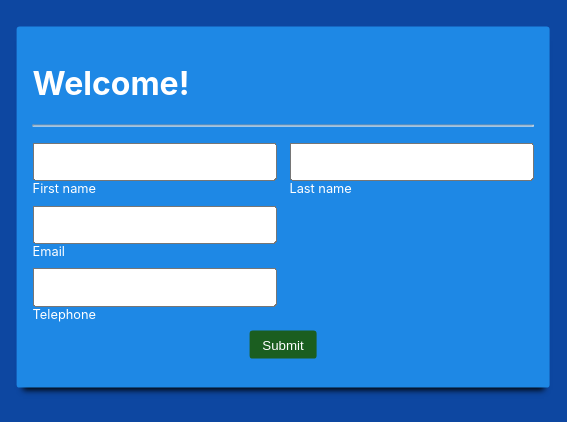
Welcome form › submits the form if all fields are correctly filled
Type "firstname" into the field with test id "welcome-form-first-name" at {"x": 155, "y": 162}, box [33, 142, 277, 181]
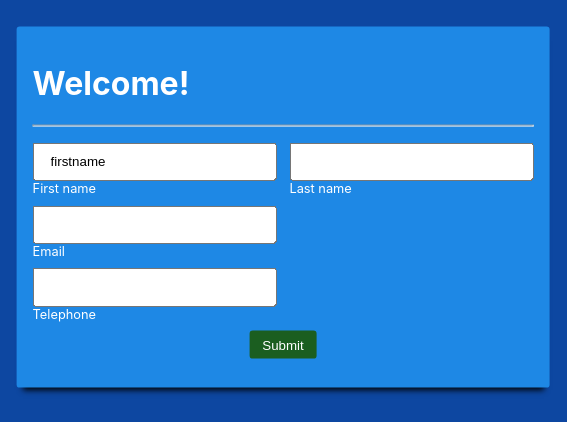
Type "lastname" into the field with test id "welcome-form-last-name" at {"x": 411, "y": 162}, box [289, 142, 533, 181]
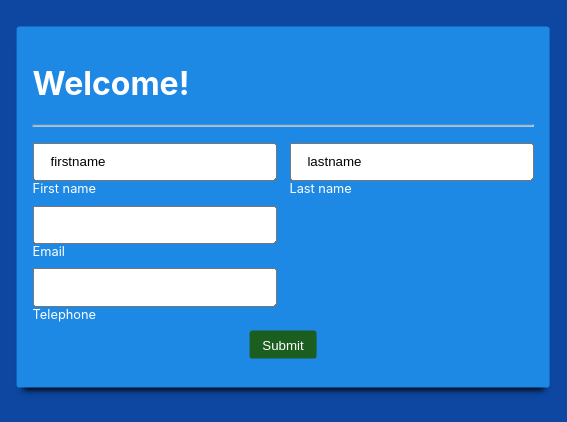
Type "home@example.com" into the field with test id "welcome-form-email" at {"x": 155, "y": 224}, box [33, 205, 277, 244]
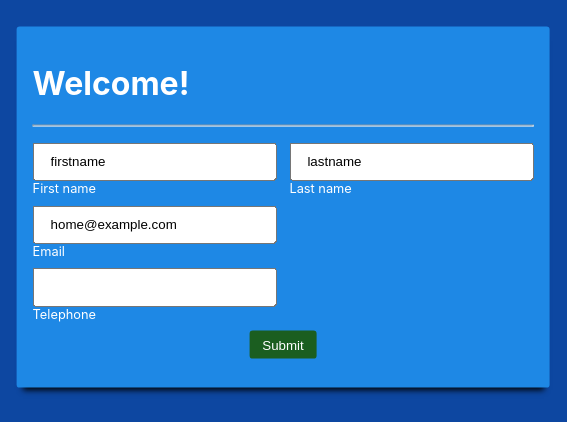
Type "999-11-11" into the field with test id "welcome-form-telephone" at {"x": 155, "y": 287}, box [33, 268, 277, 306]
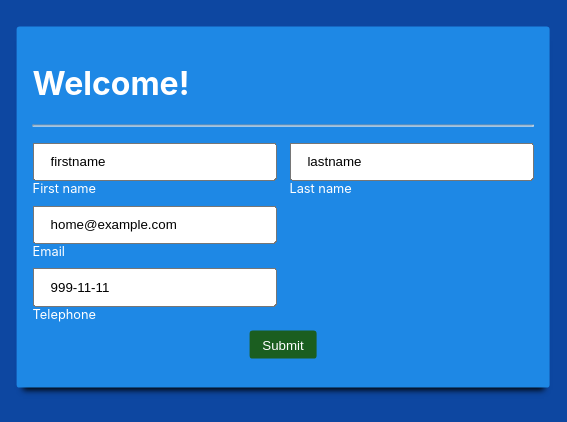
Click the button with test id "welcome-form-submit-button" at {"x": 283, "y": 345}, box [250, 331, 317, 359]
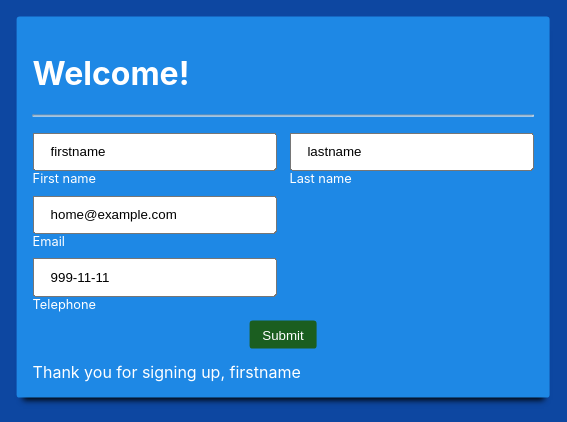
Expected: the text "Thank you for signing up, firstname" is shown, [33, 361, 301, 381]
